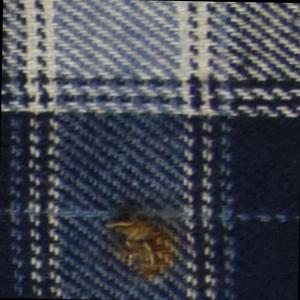Damage: (111, 216, 180, 283)
Oil Stain: (99, 196, 189, 288)
